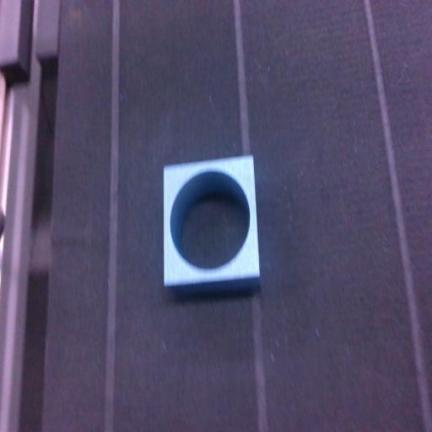hole: (164, 156, 259, 291)
